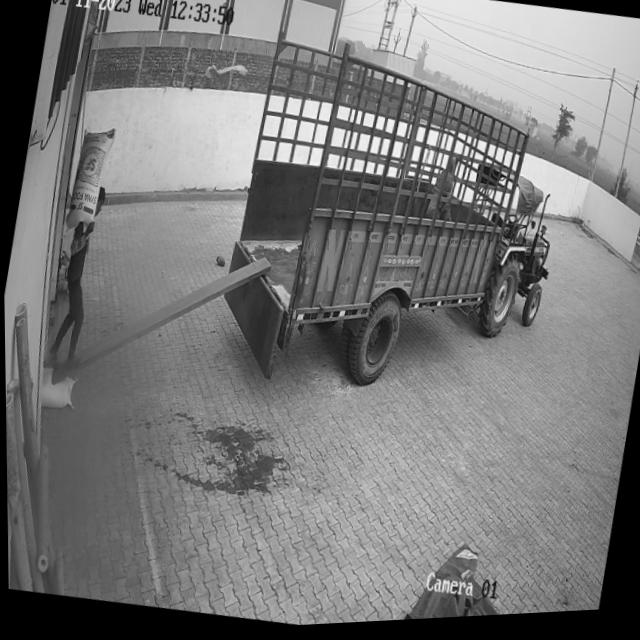sack: (62, 124, 115, 240), (34, 369, 75, 410)
